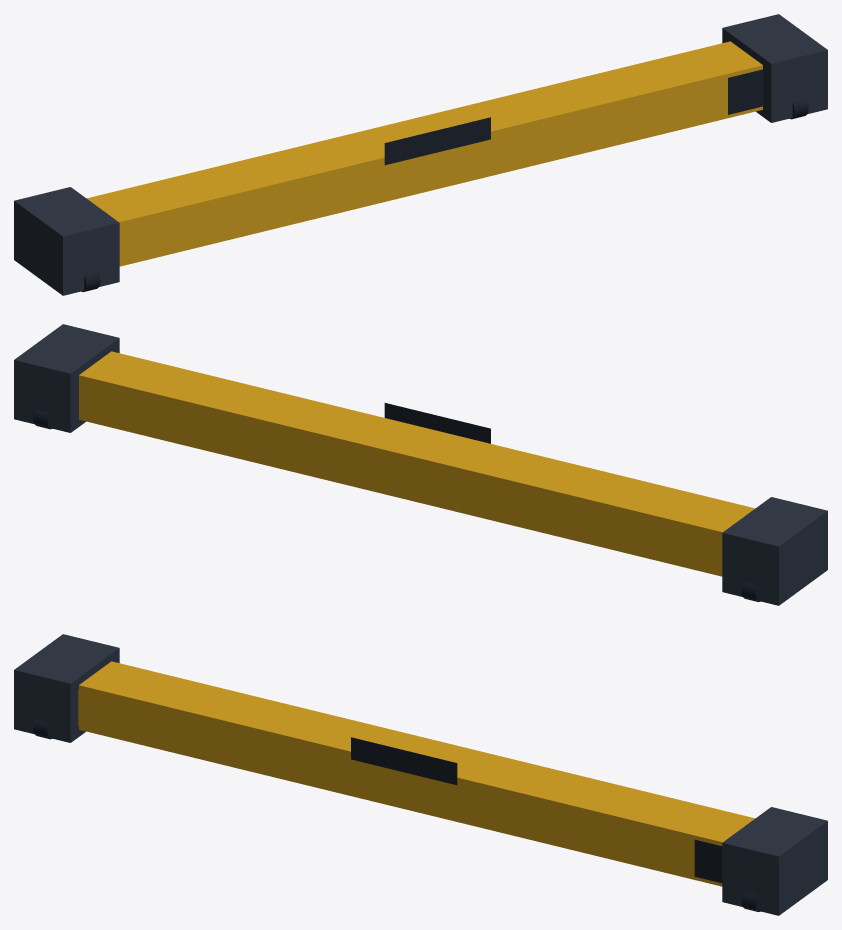
Rendered from yard-crane-body-crafted-surface.glb.
3 renders of one model, top to bottom at view 1: azimuth 30°, elevation 25°; view 2: azimuth 150°, elevation 25°; view 3: azimuth 330°, elevation 25°, orthographic.
Parts seen in each view (by area): view 1: Authored shadows false:false; view 2: Authored shadows false:false; view 3: Authored shadows false:false.
Part boxes in pixels (x1,y1,x2,y2): Authored shadows false:false: (14,14,827,295); Authored shadows false:false: (14,324,827,605); Authored shadows false:false: (14,634,827,915).
Bounding box in the file's own units: 1 × 0.088 × 0.1204.
